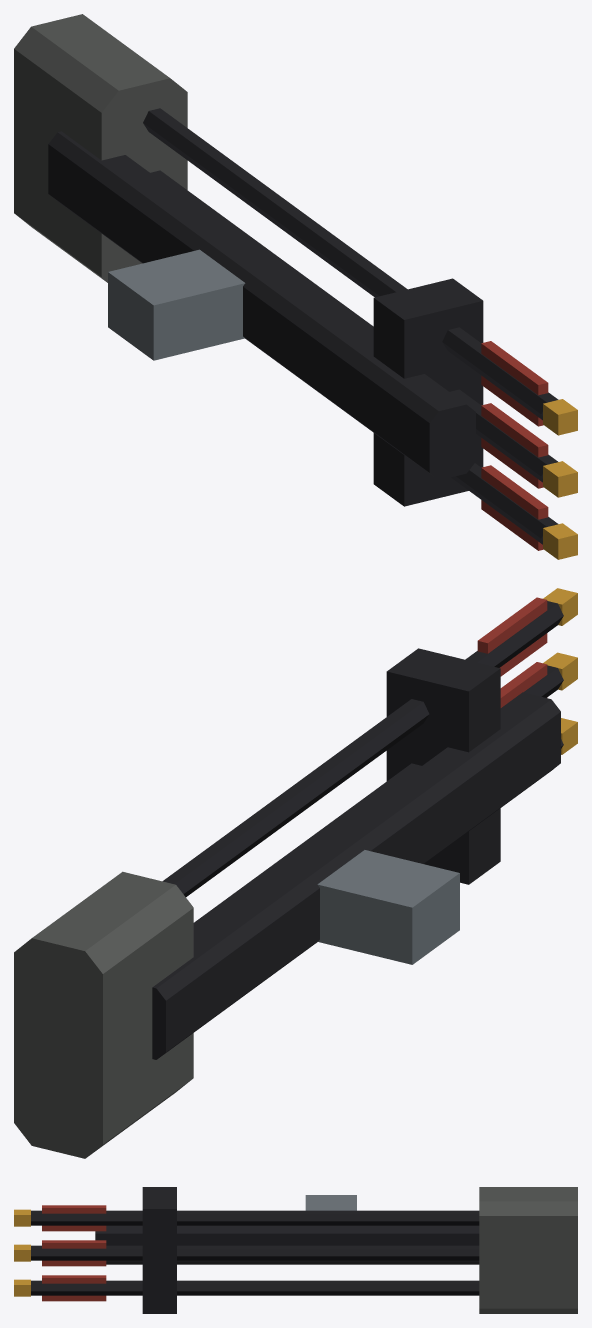
File: bolt_quiver.glb
3 views of the same model, one above another, from view 1: azimuth 30°, elevation 25°; view 2: azimuth 150°, elevation 25°; view 3: azimuth 270°, elevation 25° (orthographic). The views are drawn at different scales.
Visible parts, largest first — view 1: bolt_quiver; view 2: bolt_quiver; view 3: bolt_quiver.
Boxes of the visible parts, left/top/right/bottom form: bolt_quiver: left=14, top=14, right=577, bottom=559; bolt_quiver: left=14, top=588, right=577, bottom=1158; bolt_quiver: left=14, top=1187, right=577, bottom=1313.
Bounding box in the file's own units: 0.057 × 0.058 × 0.263.
Materials: 1 (1 with a texture image).
